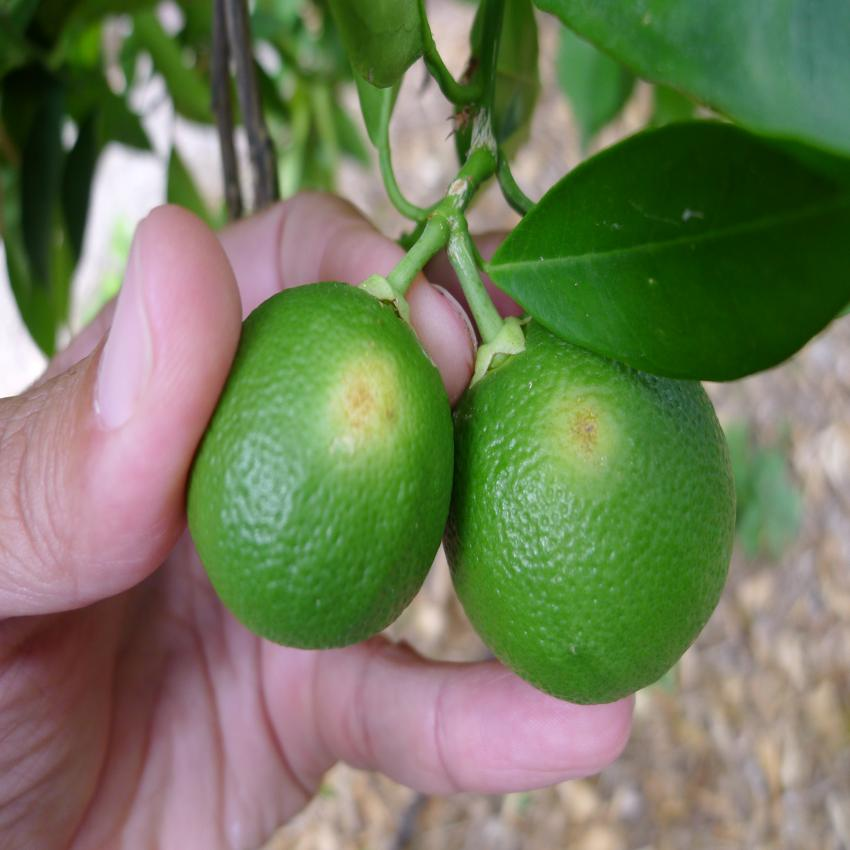Mal estado: (437, 314, 776, 714), (179, 264, 458, 666)
